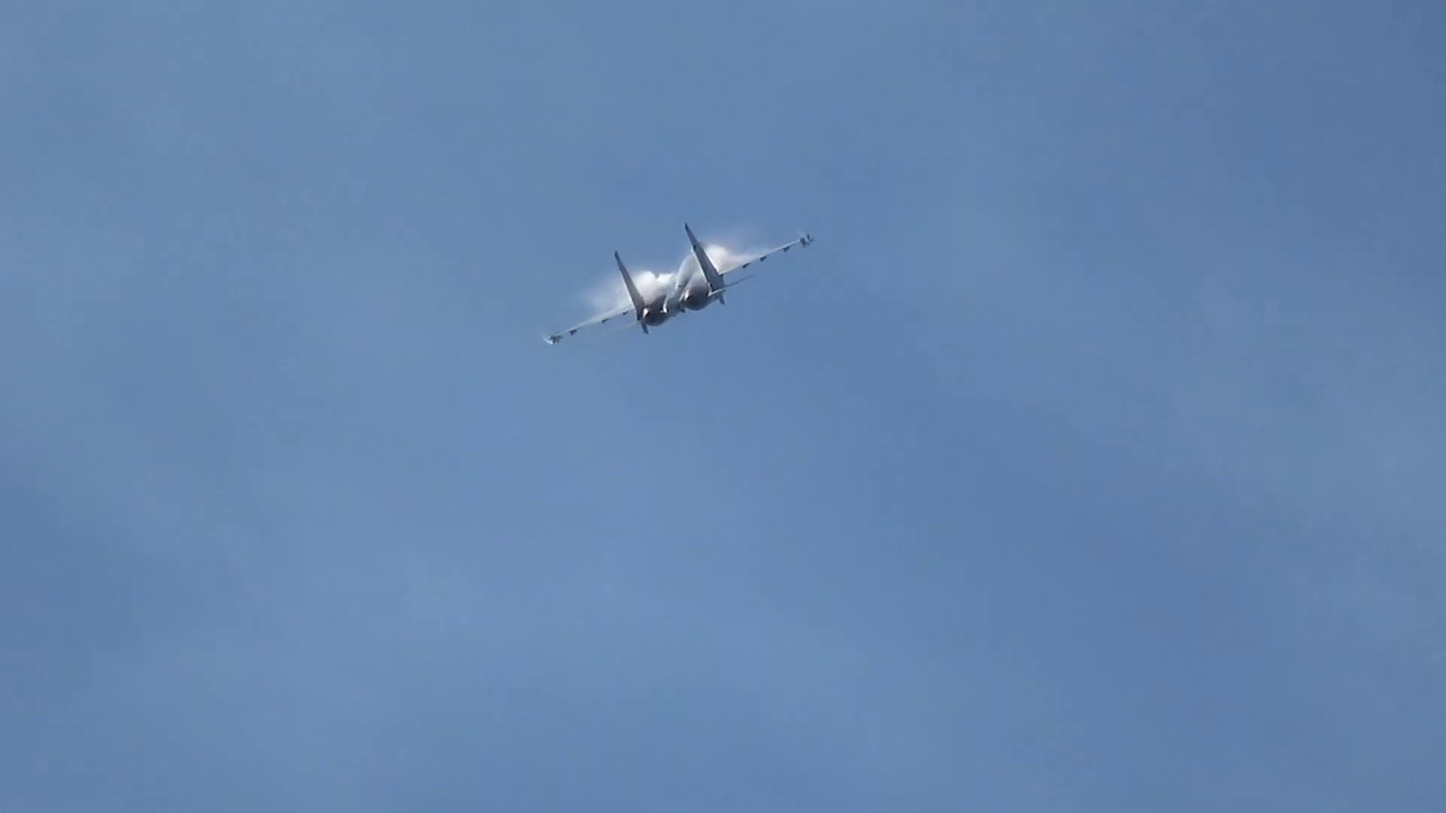Su35: (542, 223, 814, 346)
